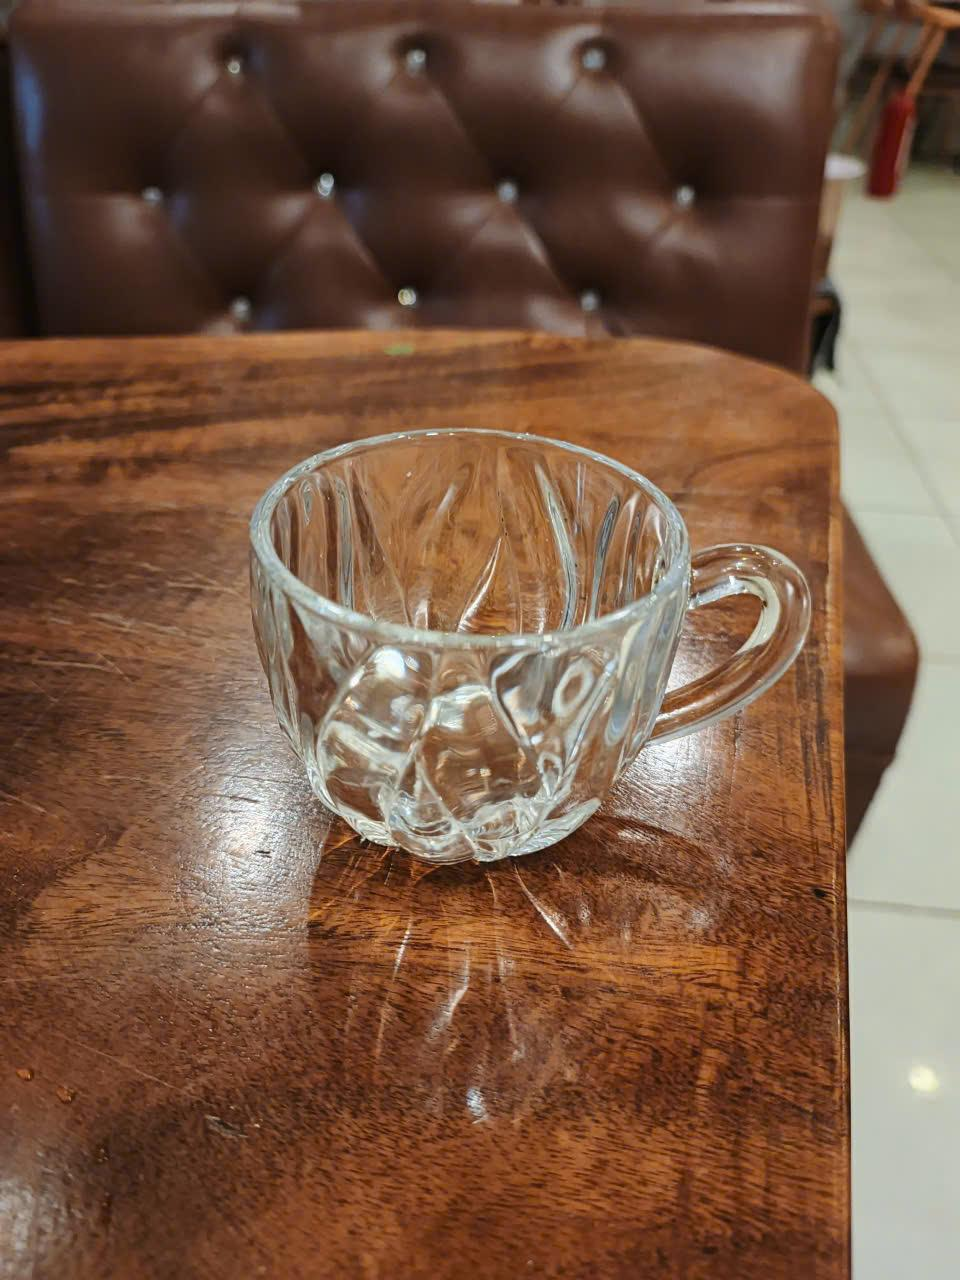Vo co: (250, 425, 816, 873)
